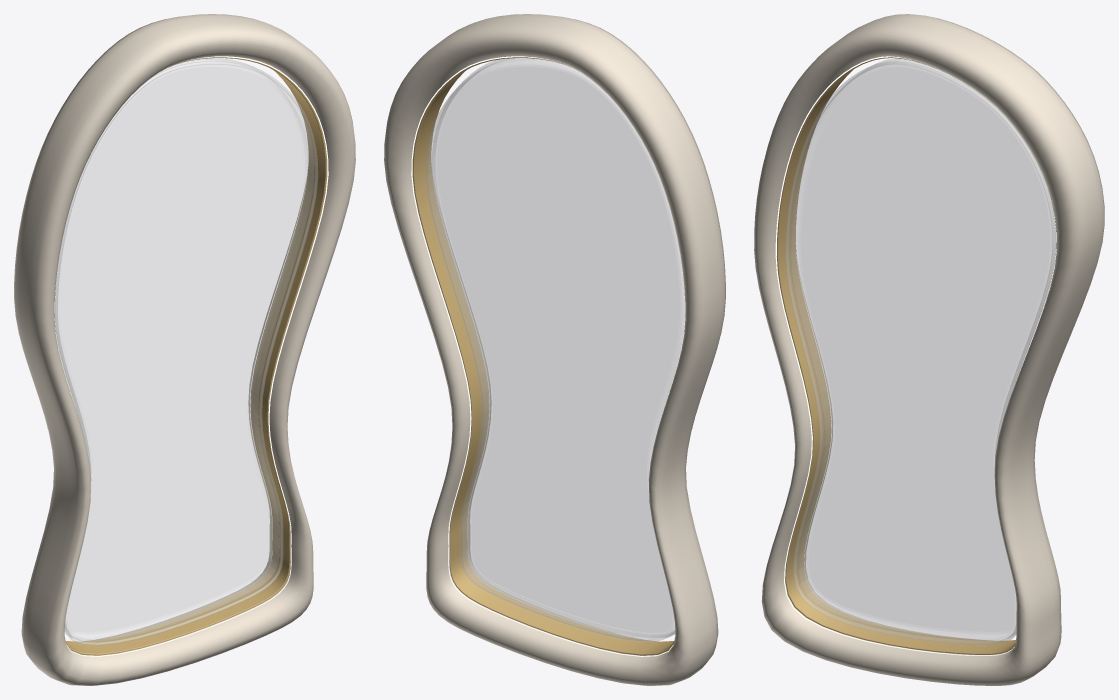
The model's file is melt.glb.
The picture shows the model from 3 angles, left to right: view 1: azimuth 30°, elevation 25°; view 2: azimuth 150°, elevation 25°; view 3: azimuth 330°, elevation 25°; orthographic projection. The views are drawn at different scales.
Parts seen in each view (by area): view 1: Slab_Glass, Fixed_GlassFrame, Fixed_ChampagneReveal, Slab_PolishedEdge, Fixed_InnerLight_Front; view 2: Slab_Glass, Fixed_GlassFrame, Fixed_ChampagneReveal, Slab_PolishedEdge, Fixed_InnerLight_Back; view 3: Slab_Glass, Fixed_GlassFrame, Fixed_ChampagneReveal, Slab_PolishedEdge, Fixed_InnerLight_Front.
Part boxes in pixels (x1,y1,x2,y2): Slab_Glass: (55, 58, 314, 641); Fixed_GlassFrame: (14, 14, 355, 685); Fixed_ChampagneReveal: (65, 56, 327, 655); Slab_PolishedEdge: (55, 61, 317, 645); Fixed_InnerLight_Front: (54, 56, 328, 656); Slab_Glass: (425, 58, 684, 641); Fixed_GlassFrame: (384, 14, 725, 685); Fixed_ChampagneReveal: (412, 56, 674, 655); Slab_PolishedEdge: (432, 58, 674, 637); Fixed_InnerLight_Back: (411, 56, 685, 656); Slab_Glass: (789, 58, 1055, 641); Fixed_GlassFrame: (754, 14, 1104, 685); Fixed_ChampagneReveal: (776, 56, 1056, 654); Slab_PolishedEdge: (785, 61, 1055, 644); Fixed_InnerLight_Front: (775, 56, 1056, 655).
Size of the model in its own units: 1.8 by 3.38 by 0.3539.
